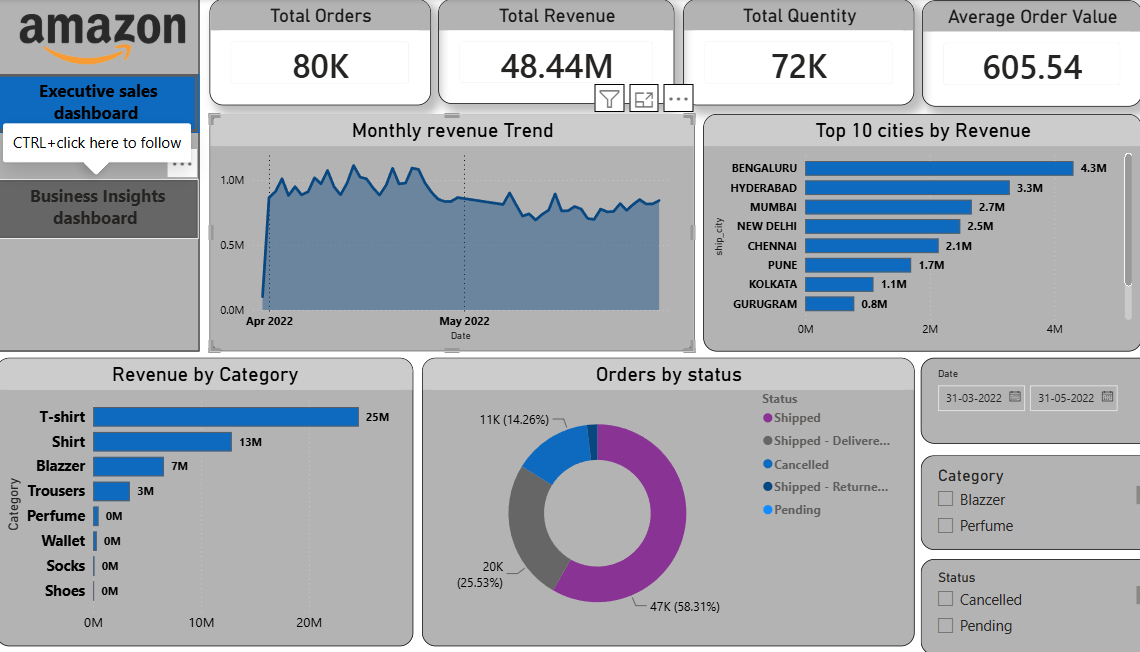

Layout of this report page (visuals, bound fields, positions):
{"tool":"powerbi","page":{"name":"Executive sales dashboard","canvas":[1280,720],"ordinal":0},"visuals":[{"type":"shape","box":[9.6,0,223.7,387],"z":0},{"type":"image","box":[0,16.5,253.9,54.9],"z":1000},{"type":"textbox","box":[11,82.3,222.3,64.5],"z":2000},{"type":"textbox","box":[9.6,197.6,223.7,65.9],"z":3000},{"type":"actionButton","box":[10.1,82.6,221.8,63.8],"z":4000},{"type":"actionButton","box":[9.6,197.6,222.3,65.9],"z":5000},{"type":"cardVisual","title":"Total  Orders ","fields":{"Data":["Amazon Sale Report.Total_orders"]},"box":[244.3,0,242.9,116.6],"z":6000},{"type":"cardVisual","title":"Total Revenue ","fields":{"Data":["Amazon Sale Report.Total_revenue"]},"box":[495.4,0,259.3,115.3],"z":7000},{"type":"cardVisual","title":"Total Quentity ","fields":{"Data":["Amazon Sale Report.Total_quentity"]},"box":[764.3,0,253.9,116.6],"z":8000},{"type":"cardVisual","title":"Average Order Value","fields":{"Data":["Amazon Sale Report.Average_order_value"]},"box":[1026.4,1.4,241.5,116.6],"z":9000},{"type":"lineChart","title":"Monthly revenue Trend ","fields":{"Y":["Amazon Sale Report.Total_revenue"],"Category":["Amazon Sale Report.Date"]},"box":[244.3,126.2,532.4,260.7],"z":10000},{"type":"clusteredBarChart","title":"Revenue by Category","fields":{"Category":["Amazon Sale Report.Category"],"Y":["Amazon Sale Report.Total_revenue"]},"box":[9.6,393.8,458.3,317],"z":11000},{"type":"donutChart","title":"Orders by status ","fields":{"Category":["Amazon Sale Report.Status"],"Y":["Amazon Sale Report.Total_orders"]},"box":[477.5,393.8,540.7,317],"z":12000},{"type":"clusteredBarChart","title":"Top 10 cities by Revenue","fields":{"Category":["Amazon Sale Report.ship_city"],"Y":["Amazon Sale Report.Total_revenue"]},"box":[786.3,126.2,481.6,260.7],"z":13000},{"type":"slicer","fields":{"Values":["Amazon Sale Report.Date"]},"box":[1025,393.8,255.2,94.7],"z":14000},{"type":"slicer","fields":{"Values":["Amazon Sale Report.Category"]},"box":[1025,500.9,255.2,104.3],"z":15000},{"type":"slicer","fields":{"Values":["Amazon Sale Report.Status"]},"box":[1025,614.8,255.2,105.7],"z":16000}]}

Visuals, with their boxes in screenshot pixels (x1, y1, x2, y2), scaled from the page's 1280x720 canvas onto the 1140x652 screenshot:
shape: Rect(9, 0, 208, 350)
image: Rect(0, 15, 226, 65)
textbox: Rect(10, 75, 208, 133)
textbox: Rect(9, 179, 208, 239)
actionButton: Rect(9, 75, 207, 133)
actionButton: Rect(9, 179, 207, 239)
"Total  Orders " cardVisual: Rect(218, 0, 434, 106)
"Total Revenue " cardVisual: Rect(441, 0, 672, 104)
"Total Quentity " cardVisual: Rect(681, 0, 907, 106)
"Average Order Value" cardVisual: Rect(914, 1, 1129, 107)
"Monthly revenue Trend " lineChart: Rect(218, 114, 692, 350)
"Revenue by Category" clusteredBarChart: Rect(9, 357, 417, 644)
"Orders by status " donutChart: Rect(425, 357, 907, 644)
"Top 10 cities by Revenue" clusteredBarChart: Rect(700, 114, 1129, 350)
slicer - Amazon Sale Report.Date: Rect(913, 357, 1139, 442)
slicer - Amazon Sale Report.Category: Rect(913, 454, 1139, 548)
slicer - Amazon Sale Report.Status: Rect(913, 557, 1139, 651)
